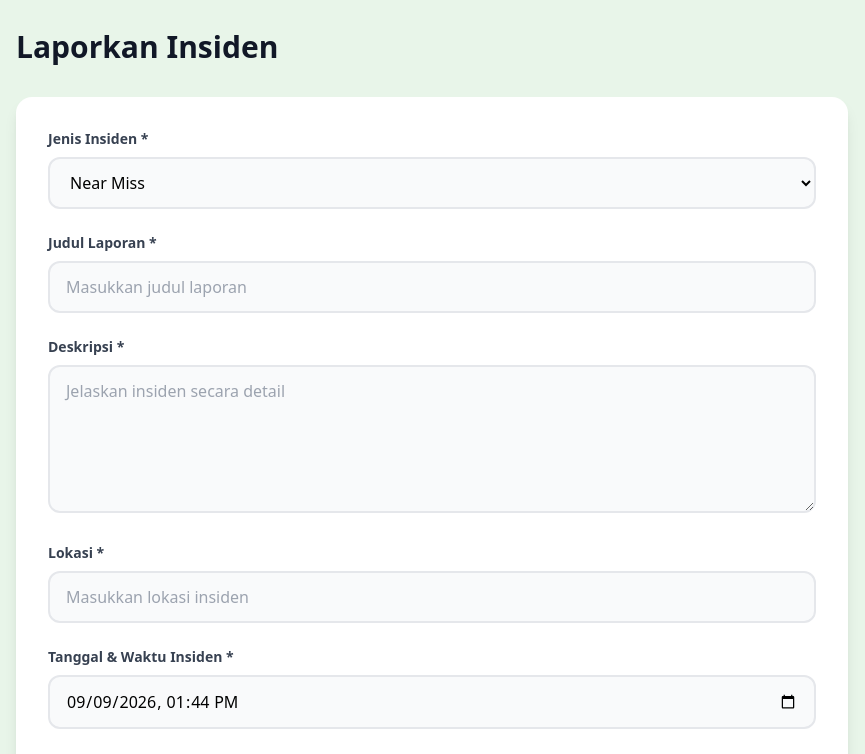
ReportIncident Component › should disable submit button while loading
This screenshot has width=865, height=754.
In the field labelled "Judul Laporan *": (432, 287) [48,261,816,313], type "Test Incident"
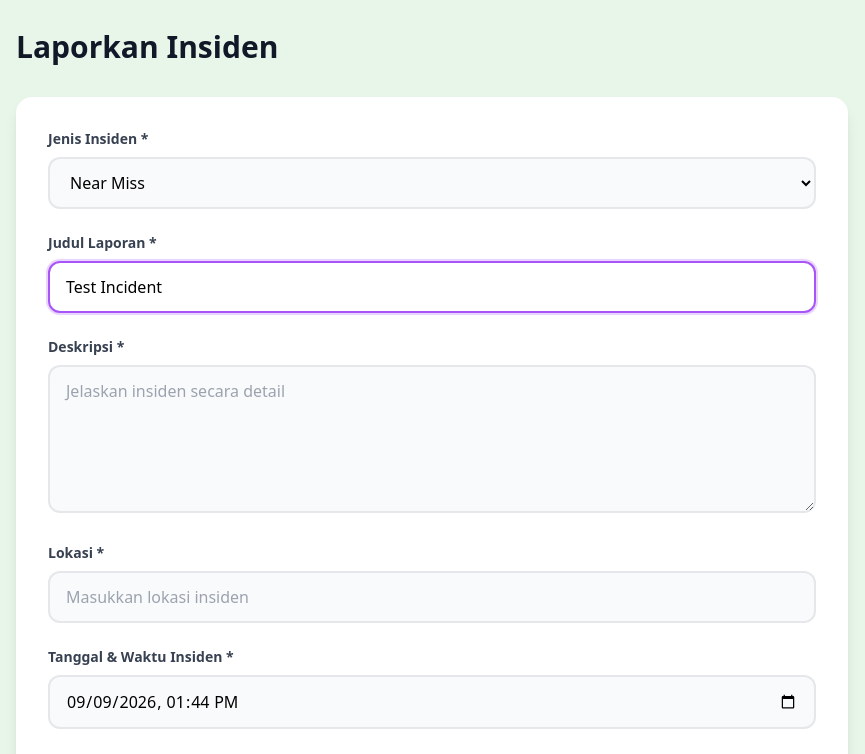
In the text box labelled "Deskripsi *": (432, 439) [48,365,816,513], type "Test Description"
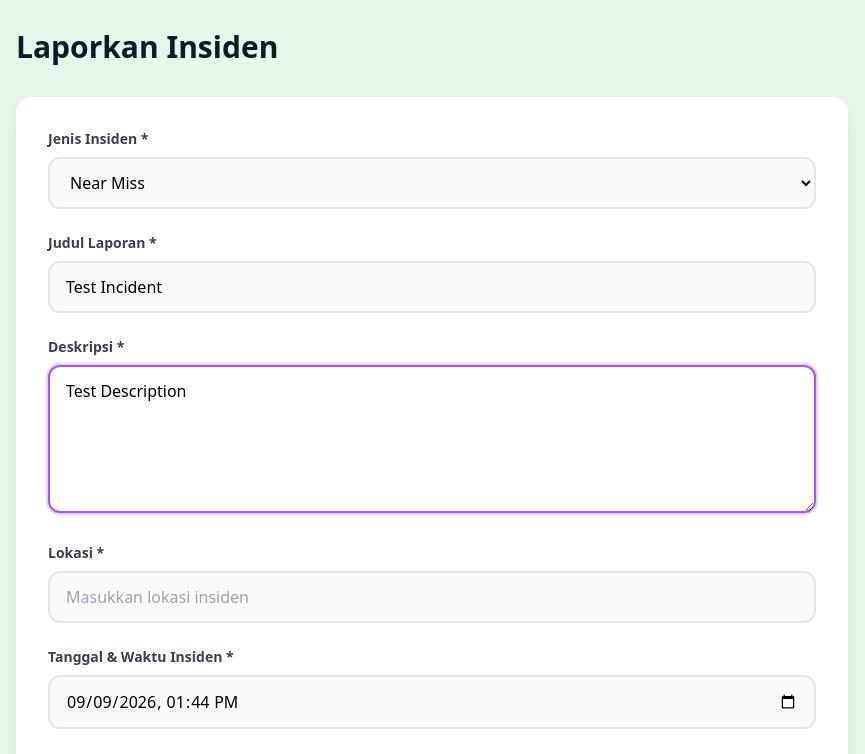
In the field labelled "Lokasi *": (432, 597) [48,571,816,623], type "Test Location"
(page scrolled)
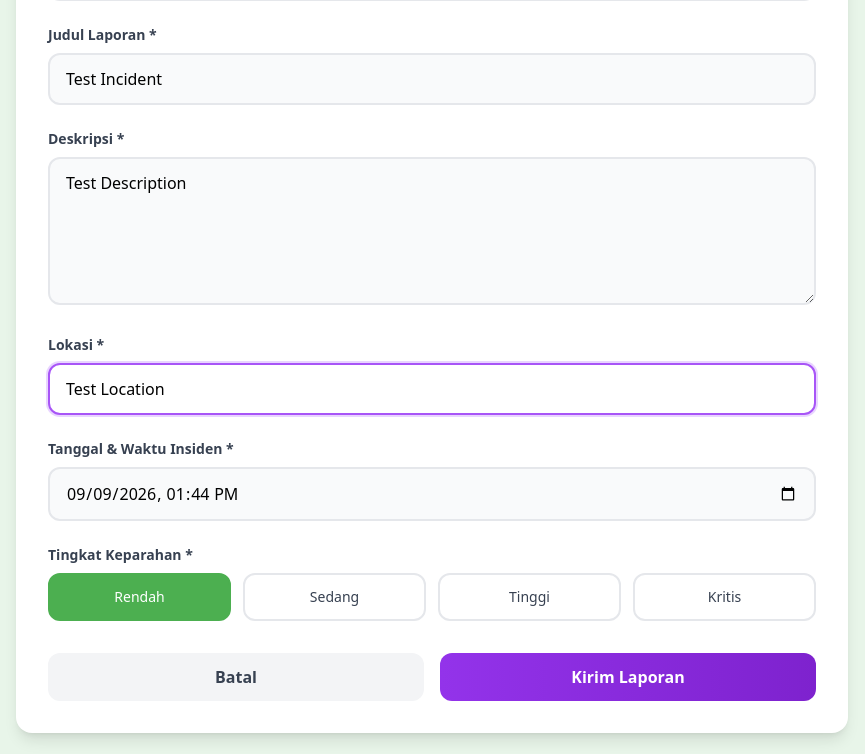
Click the button "Kirim Laporan": (628, 677) [440,653,816,701]
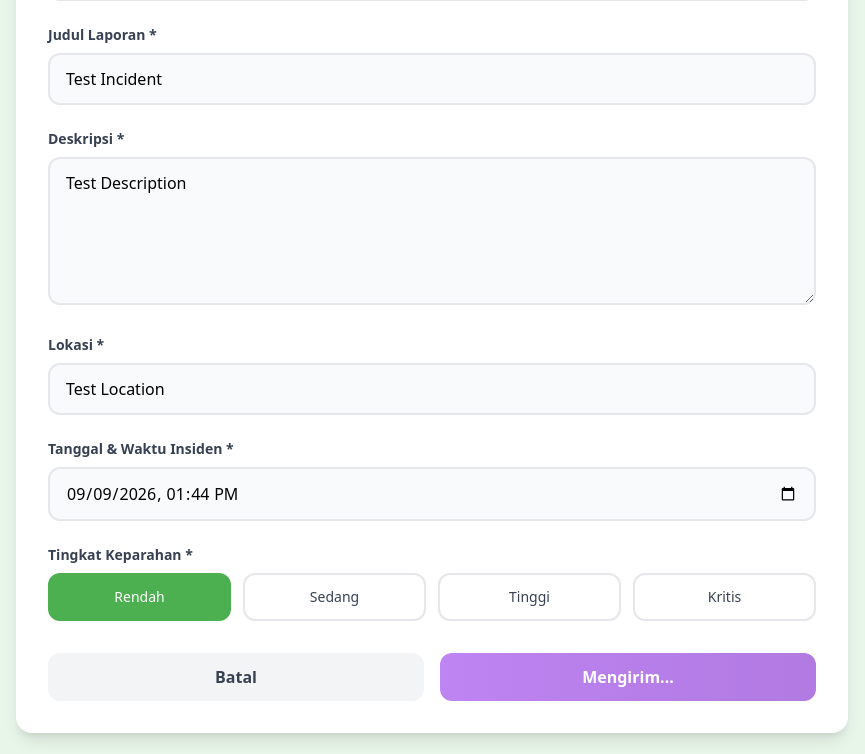
Result: the button "Mengirim..." is disabled at [440,653,816,701]
